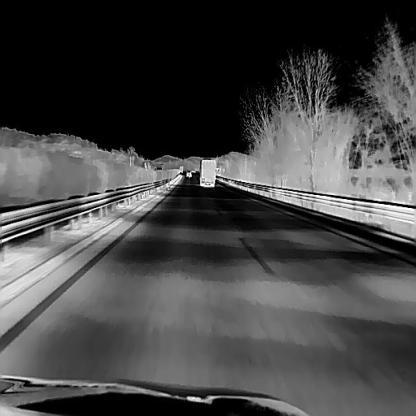car: (198, 157, 215, 186), (185, 168, 191, 176)
